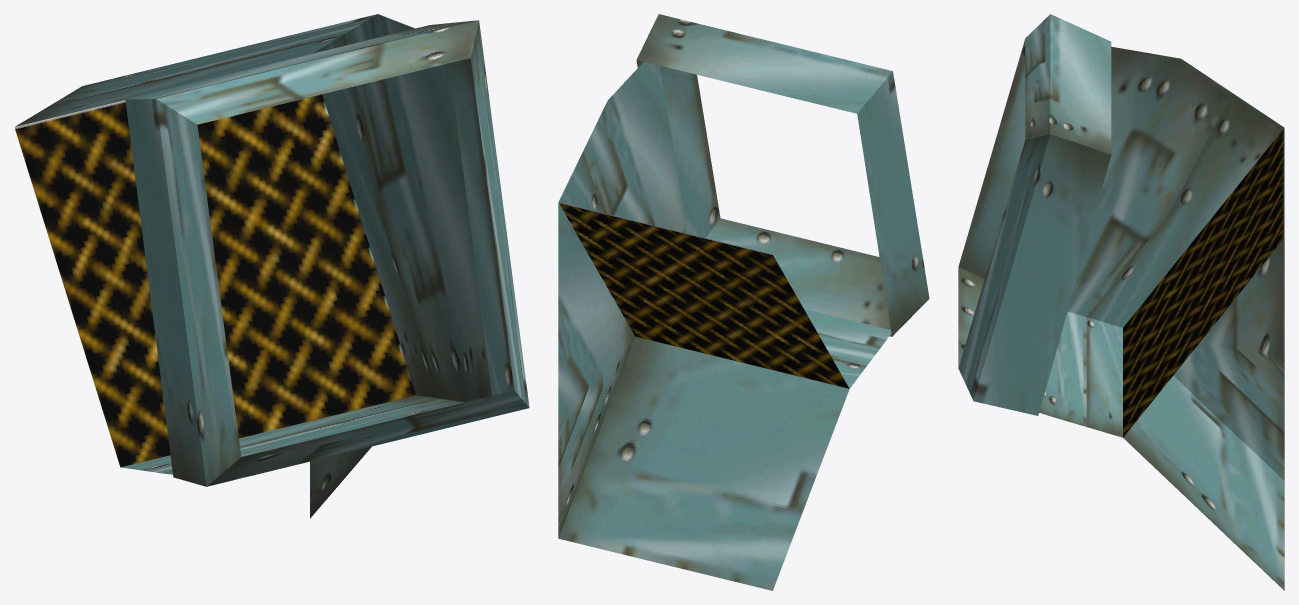
The model's file is Belüftungsanlage_Kasten_1511.glb.
3 renders of one model, left to right at view 1: azimuth 30°, elevation 25°; view 2: azimuth 150°, elevation 25°; view 3: azimuth 270°, elevation 25°, orthographic. The views are drawn at different scales.
Parts seen in each view (by area): view 1: pPlaneShape2, pTorusShape1, pCylinderShape1; view 2: pCylinderShape1, pTorusShape1, pPlaneShape2; view 3: pCylinderShape1, pTorusShape1, pPlaneShape2.
Boxes of the visible parts, x1,y1,x2,y2 form: pPlaneShape2: (14,94,415,467); pTorusShape1: (125,20,529,486); pCylinderShape1: (15,14,491,518); pCylinderShape1: (558,62,891,590); pTorusShape1: (636,14,929,336); pPlaneShape2: (558,202,849,388); pCylinderShape1: (1039,46,1284,590); pTorusShape1: (958,14,1111,415); pPlaneShape2: (1123,128,1284,437).
Bounding box in the file's own units: 0.1937 × 0.348 × 0.2223.
3 materials, 3 textured.
